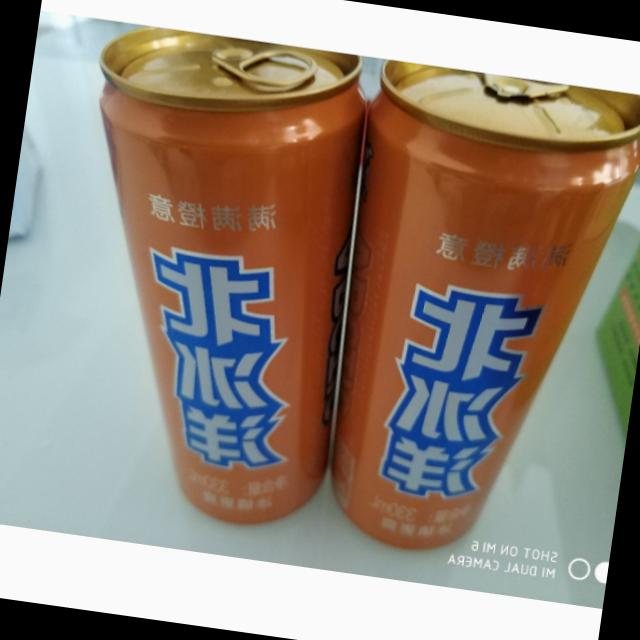can: (35, 18, 382, 540), (307, 57, 640, 579)
